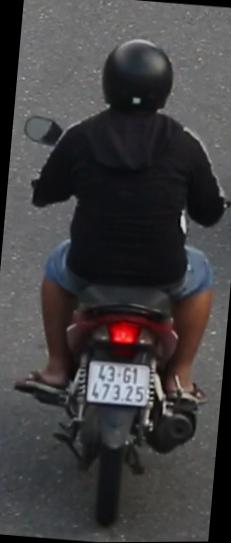LP: (84, 354, 153, 410)
helmet: (91, 32, 184, 133)
